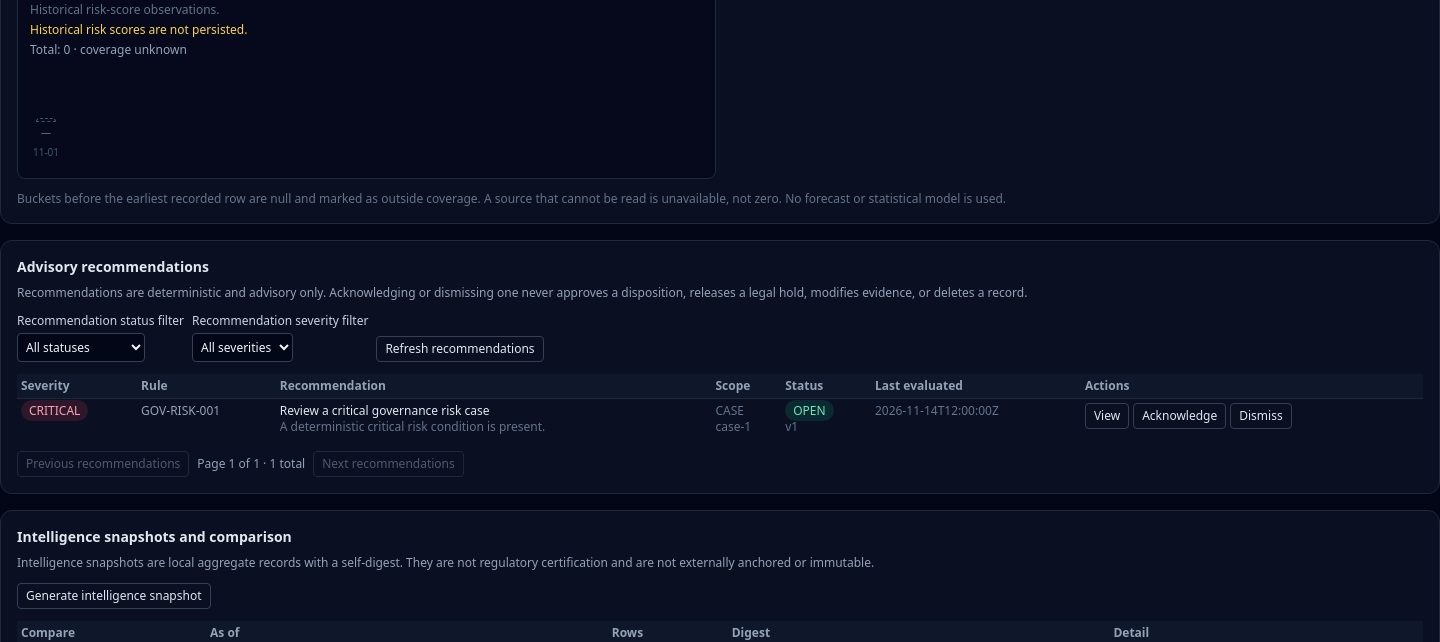
Test: IntelligenceWorkspace › acknowledges and refreshes only with a reason
This screenshot has width=1440, height=642.
(page scrolled)
Click the button "Acknowledge" at (1180, 416), box [1133,403,1226,429]
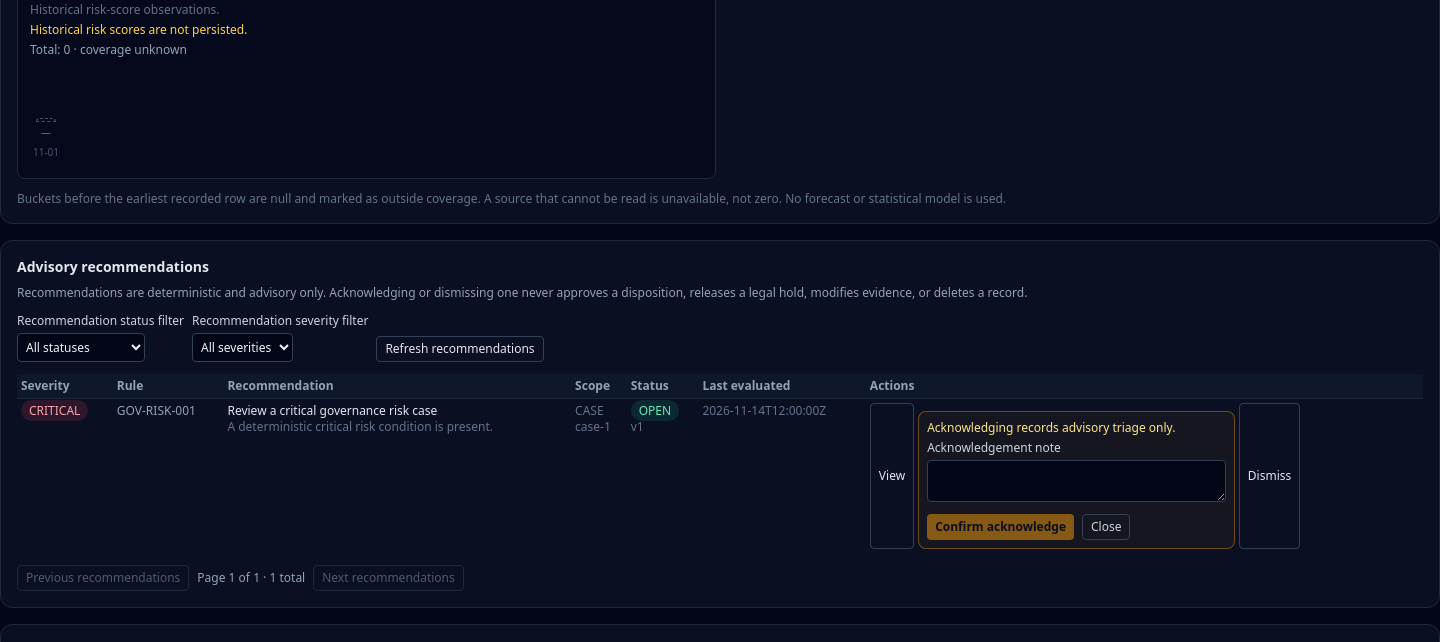
Type "Operator triage." into the text box labelled "Acknowledgement note" at (1076, 481), box [927,460,1226,502]
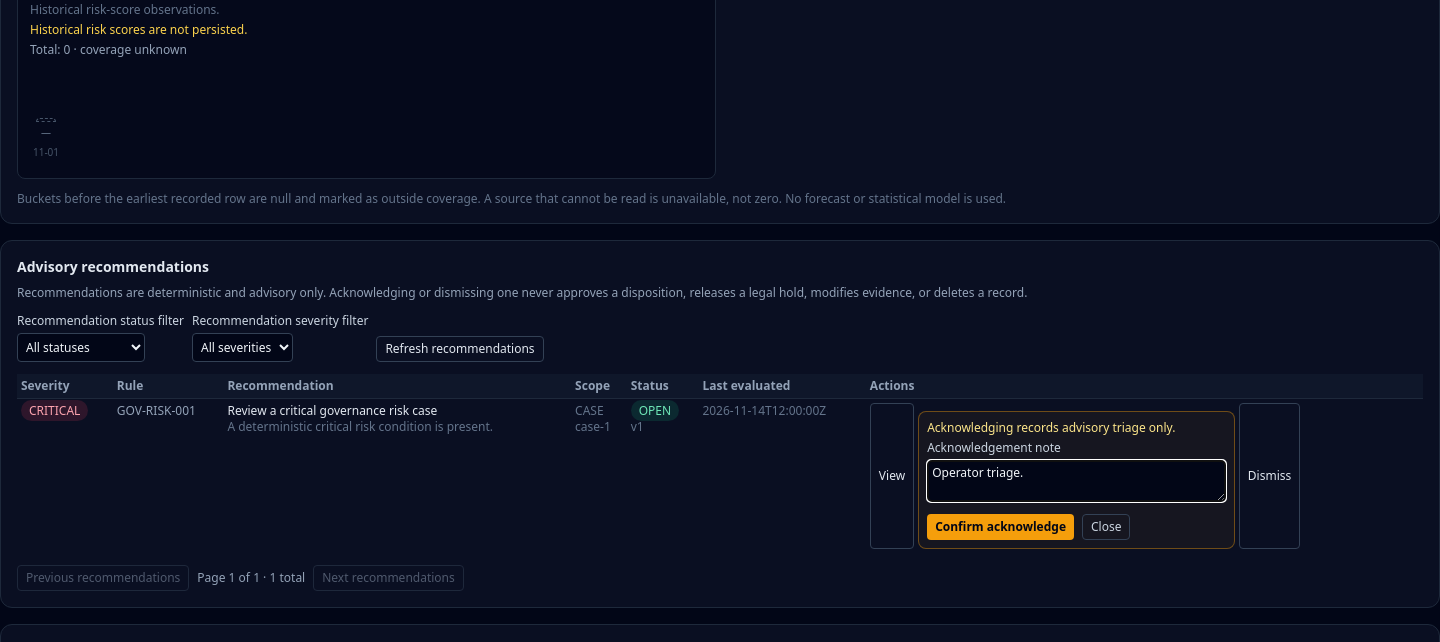
Click the button "Confirm acknowledge" at (1001, 527), box [927,514,1074,540]
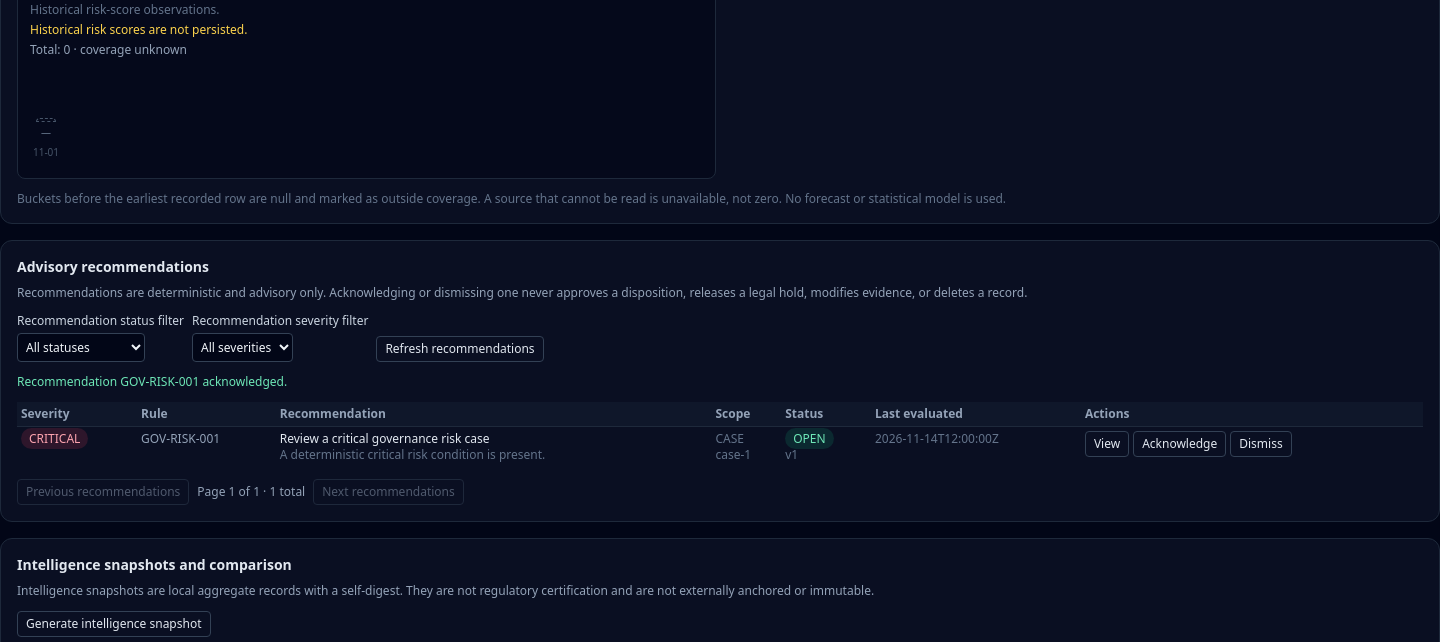
Result: the text "Recommendation GOV-RISK-001 acknowledged." is shown at [17,373,287,390]
Click the button "Refresh recommendations" at (460, 349), box [376,336,544,362]
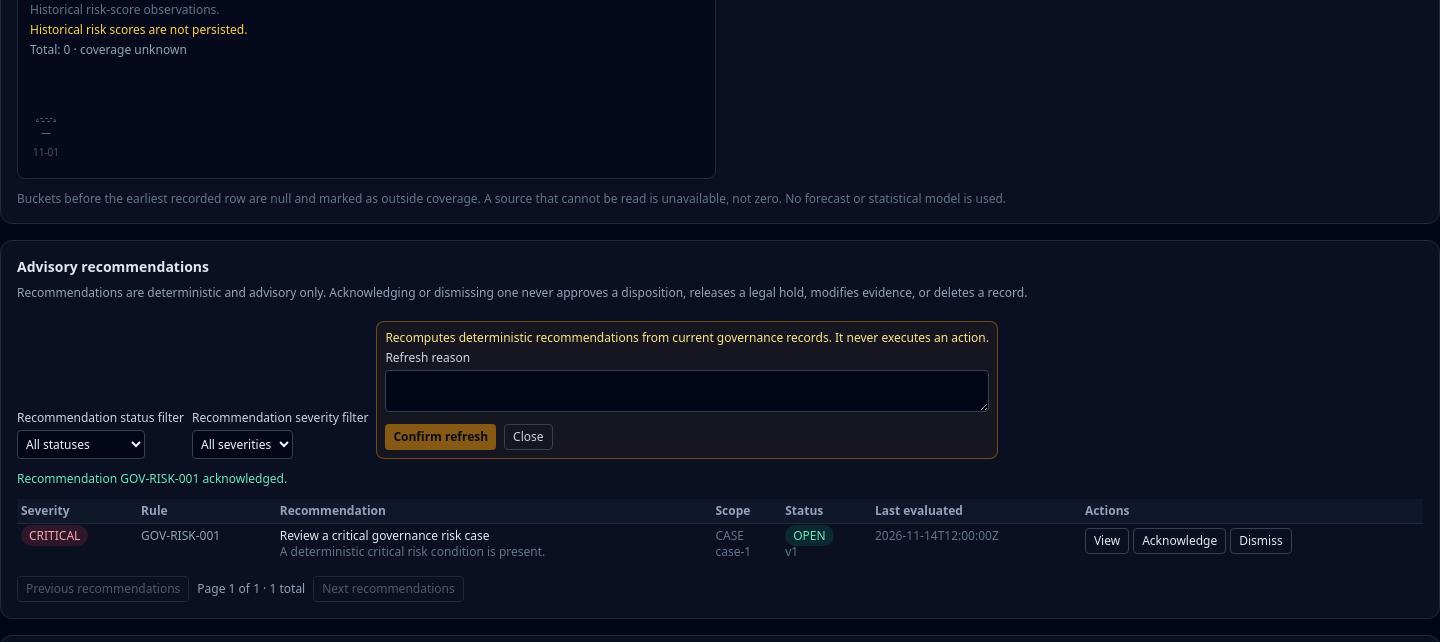
Type "Synthetic operator refresh." into the text box labelled "Refresh reason" at (687, 391), box [385,370,989,412]
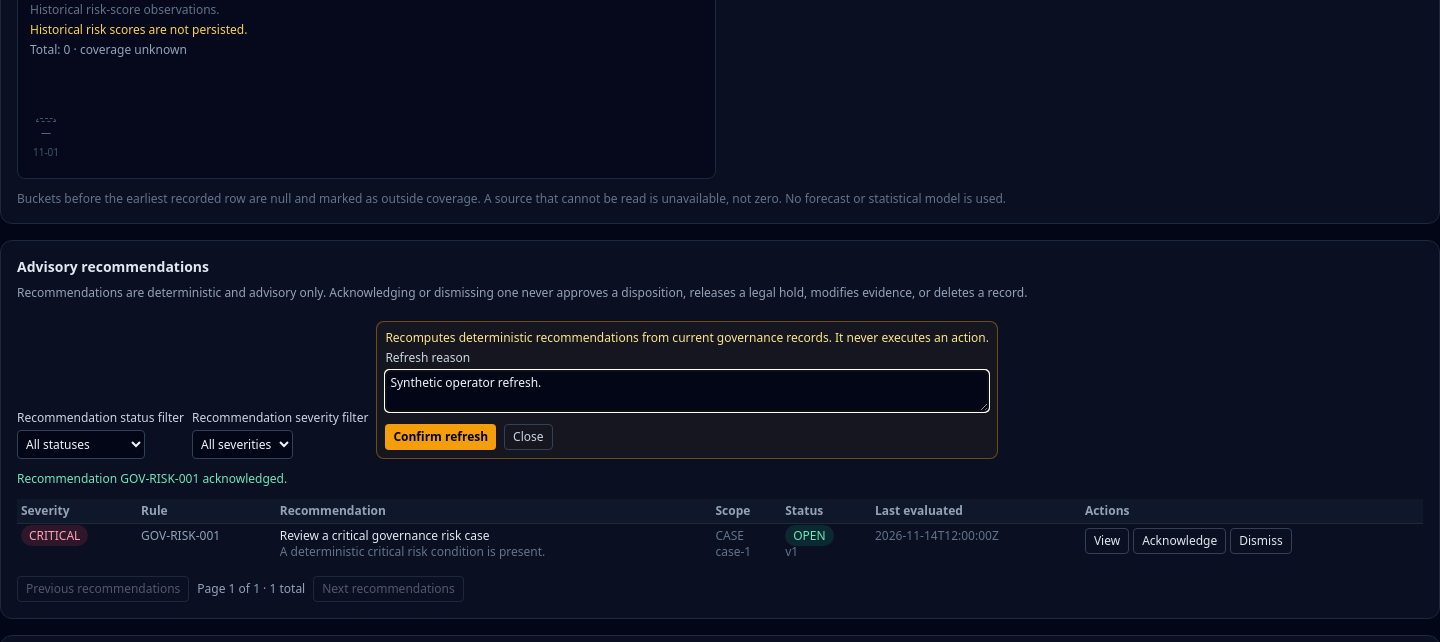
Click the button "Confirm refresh" at (441, 437), box [385,424,496,450]
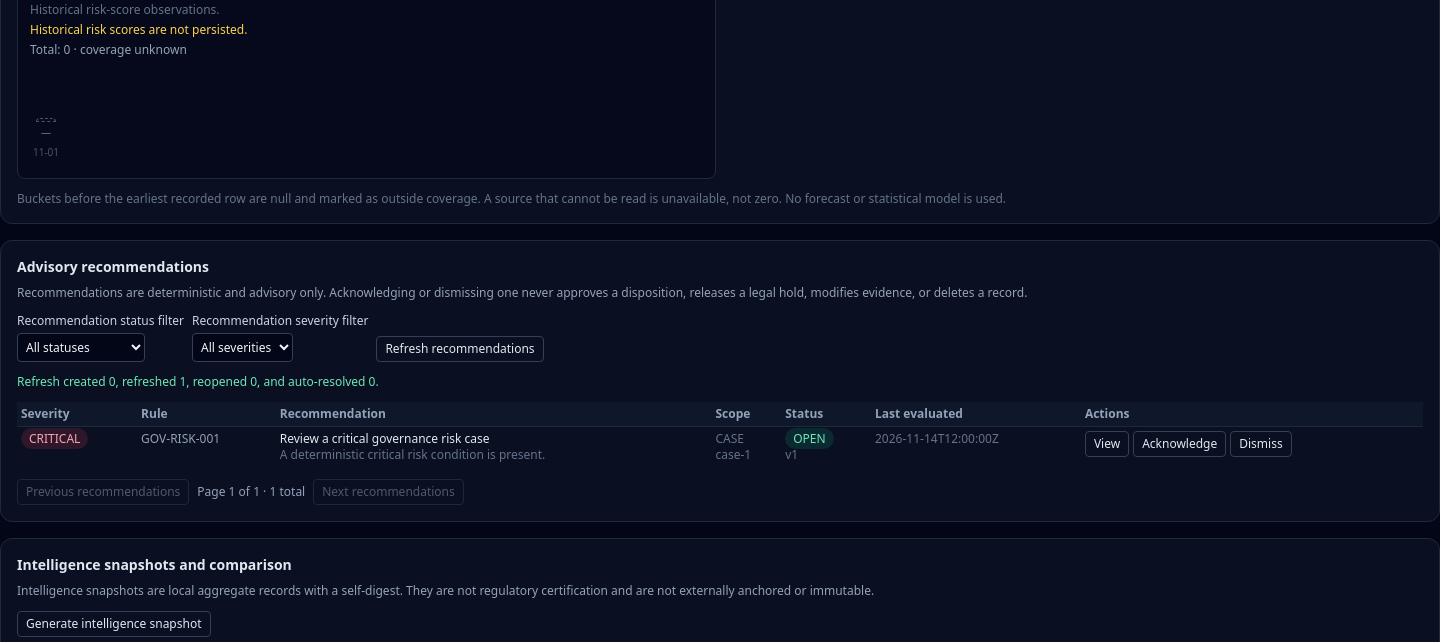
Result: the text "Refresh created 0, refreshed 1, reopened 0" is shown at [17,373,379,390]
